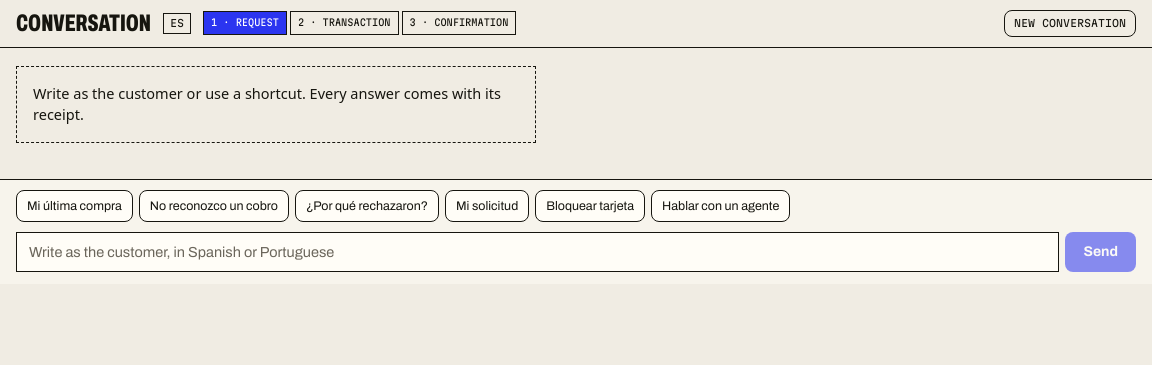
Test: pré-caso já existente não vira 'recebido' de novo
The image size is (1152, 365).
Type "No reconozco el cobro de Uber" into the field labelled "Write as the customer, in Spanish or Portuguese".
click(538, 252); type("No reconozco el cobro de Uber")  # box 16,232 -> 1059,272
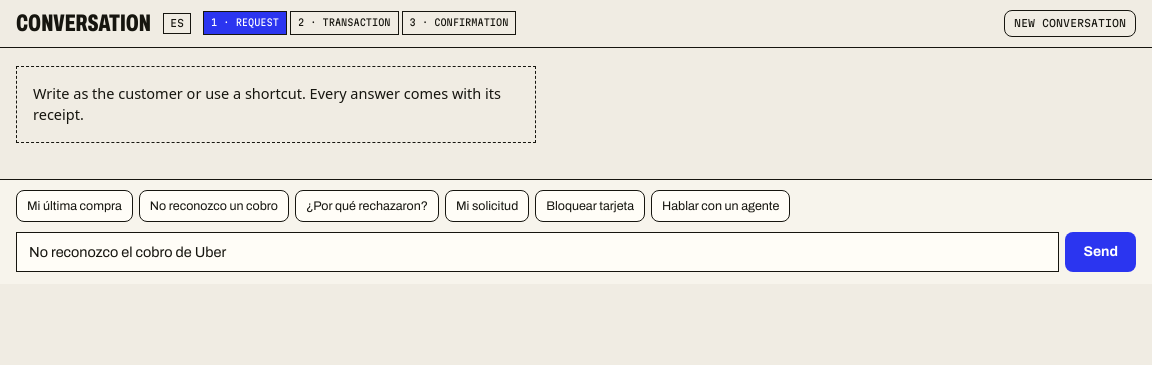
Click the button "Send".
click(1101, 252)  # box 1065,232 -> 1136,272
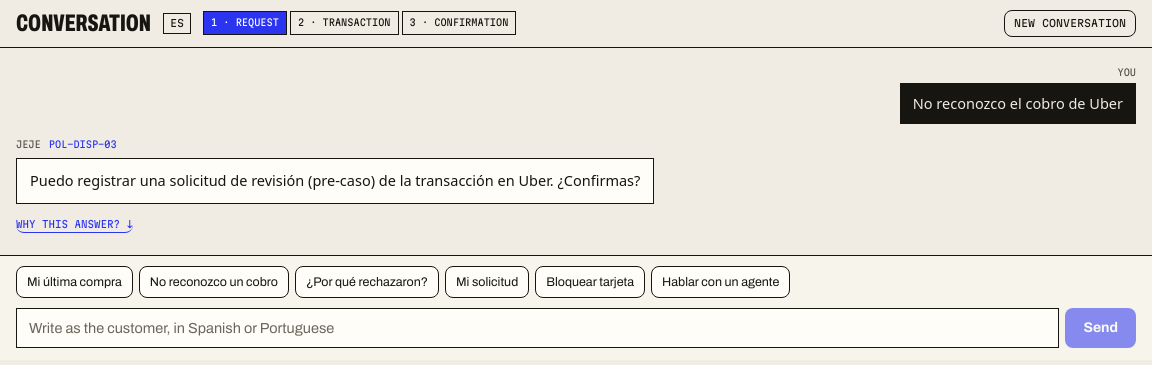
Now the text "Puedo registrar una solicitud de revisión (pre-caso) de la transacción en Uber. ¿Confirmas?" is shown, box 30,170 -> 640,190
